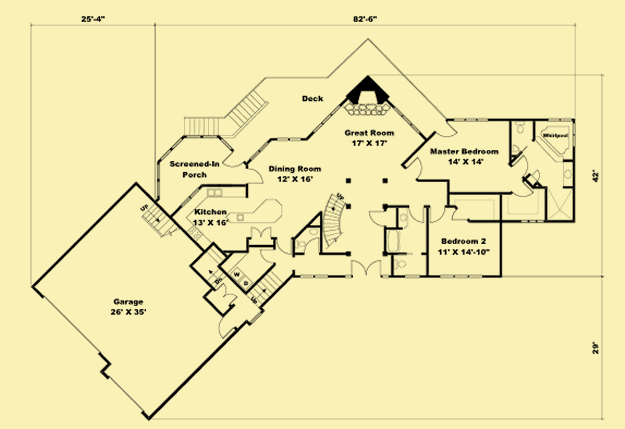door: (349, 257, 382, 281), (403, 154, 426, 180), (512, 153, 531, 179), (435, 119, 459, 139), (216, 314, 235, 339), (365, 207, 387, 227), (512, 181, 536, 199), (221, 149, 244, 167), (428, 204, 447, 225), (248, 226, 273, 241), (246, 169, 264, 185)
large_sink: (508, 119, 530, 136)
stairs: (179, 87, 270, 139), (140, 200, 183, 242), (247, 267, 286, 308), (322, 188, 347, 249)
